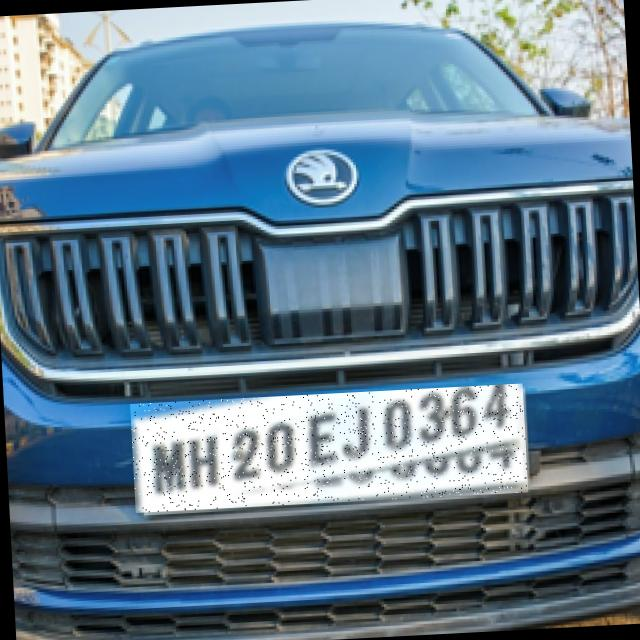Plate: (131, 385, 529, 514)
